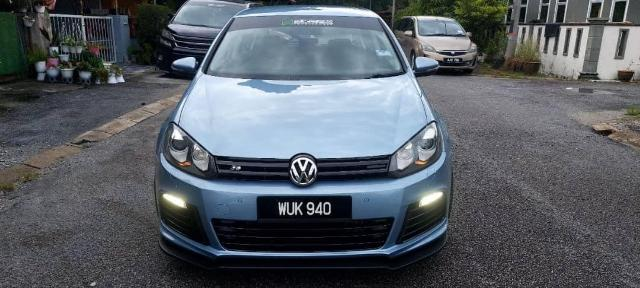License_Plate: (264, 199, 349, 222)
